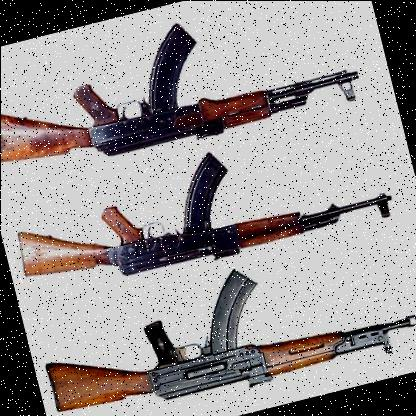rifle: (2, 115, 401, 326), (26, 217, 416, 416), (0, 0, 367, 211)
